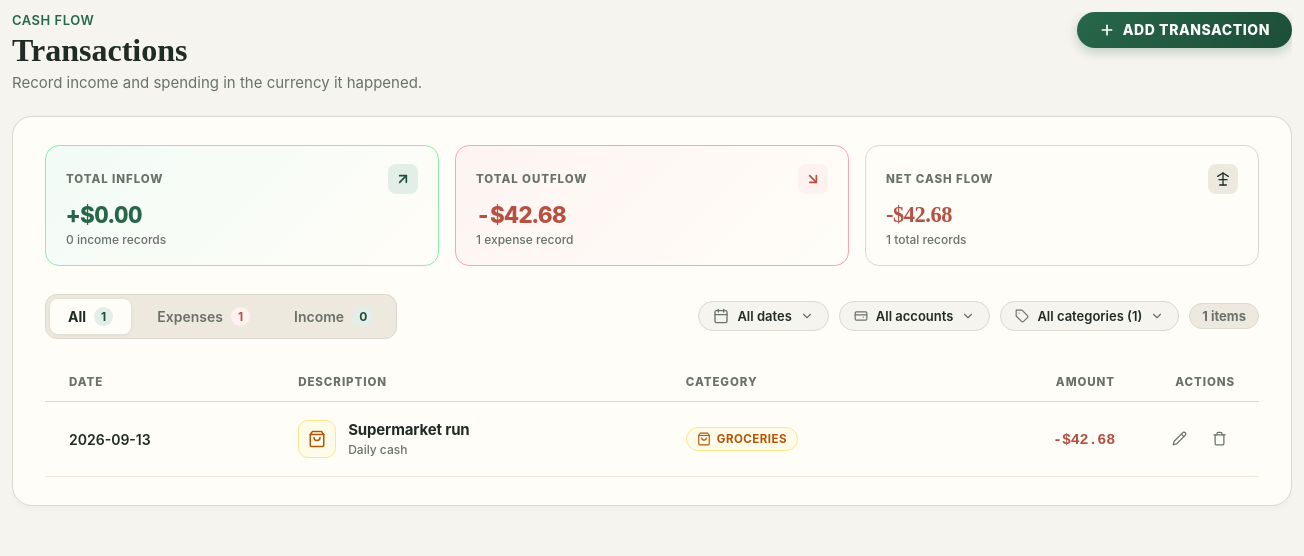
Scenario: FinancialRecordsView › filters by category and resets with clear filters
The width and height of the screenshot is (1304, 556).
Click the dropdown named "filter by category" at point(1090, 316), box [1000,301,1179,331]
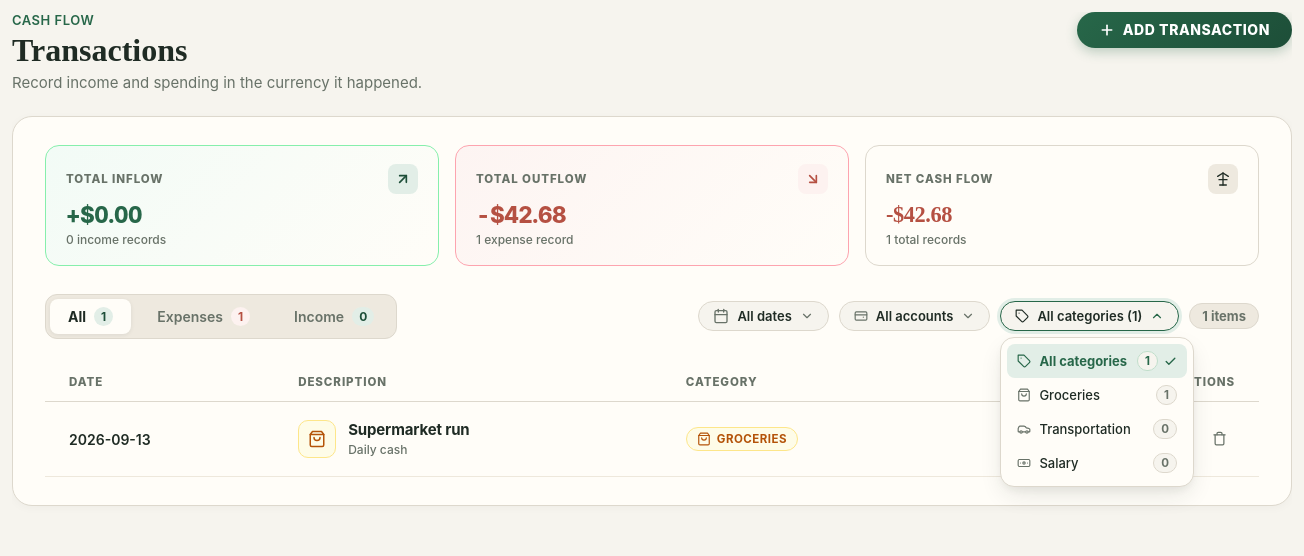
Click the option "Transportation 0" at point(1097, 429), box [1017,419,1177,439]
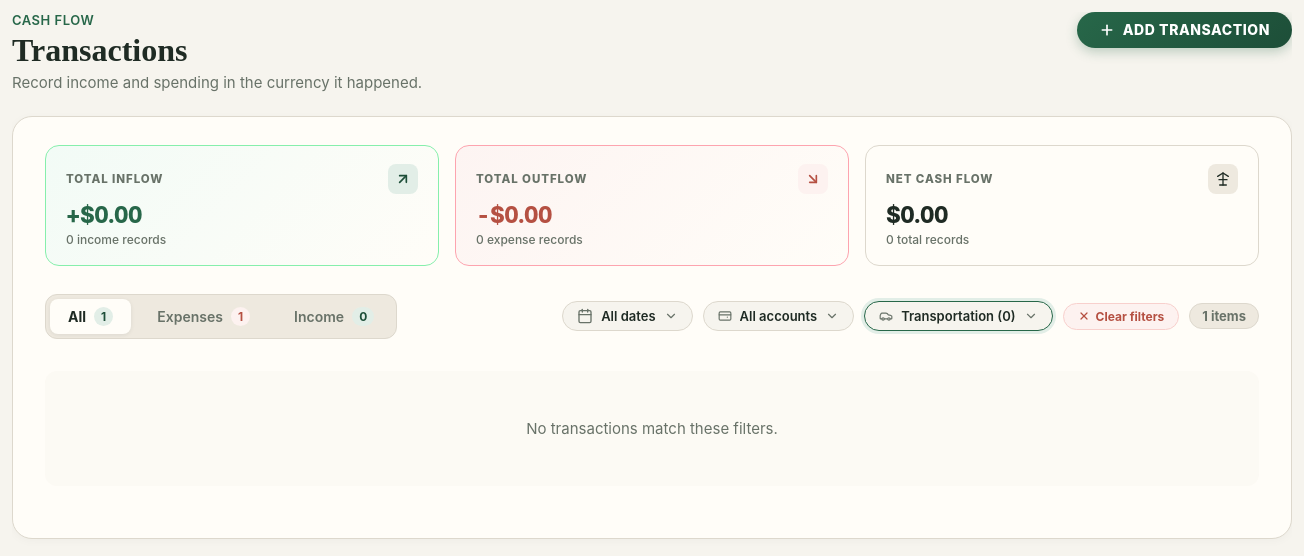
Check: the text "No transactions match these filters." is shown, box [45,371,1259,486]
Click the button "Clear filters" at point(1121, 316), box [1063,303,1179,330]
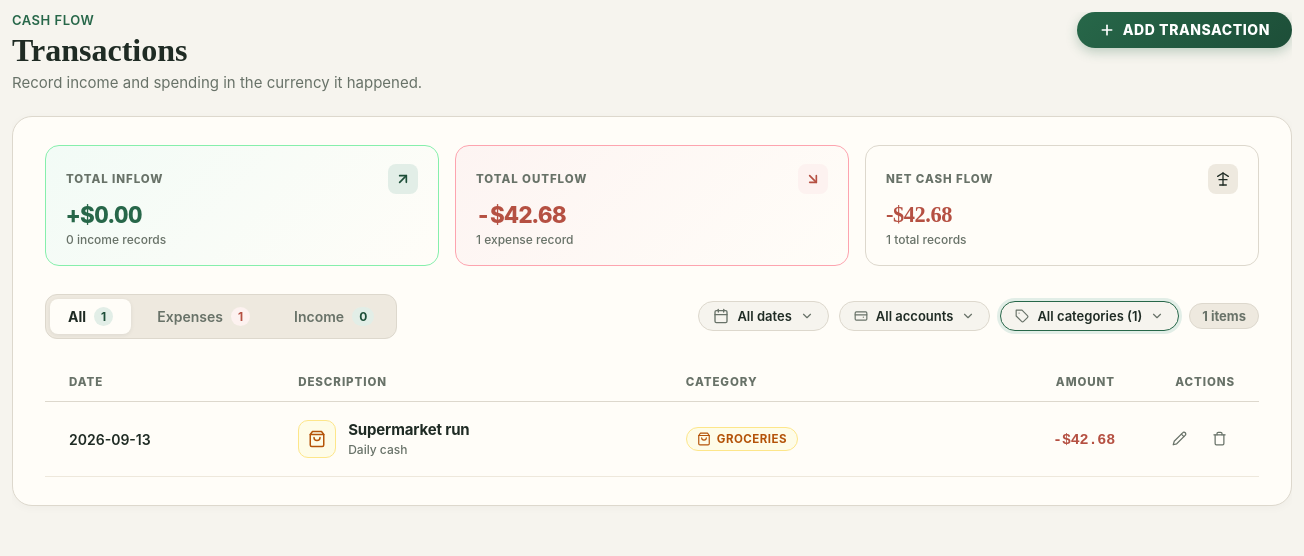
Check: the text "Supermarket run" is shown, box [348,420,470,439]
